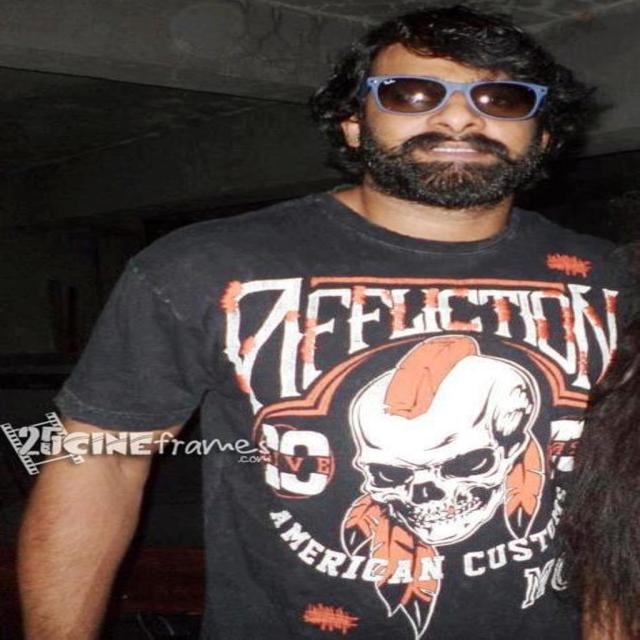Face: (356, 47, 549, 203)
